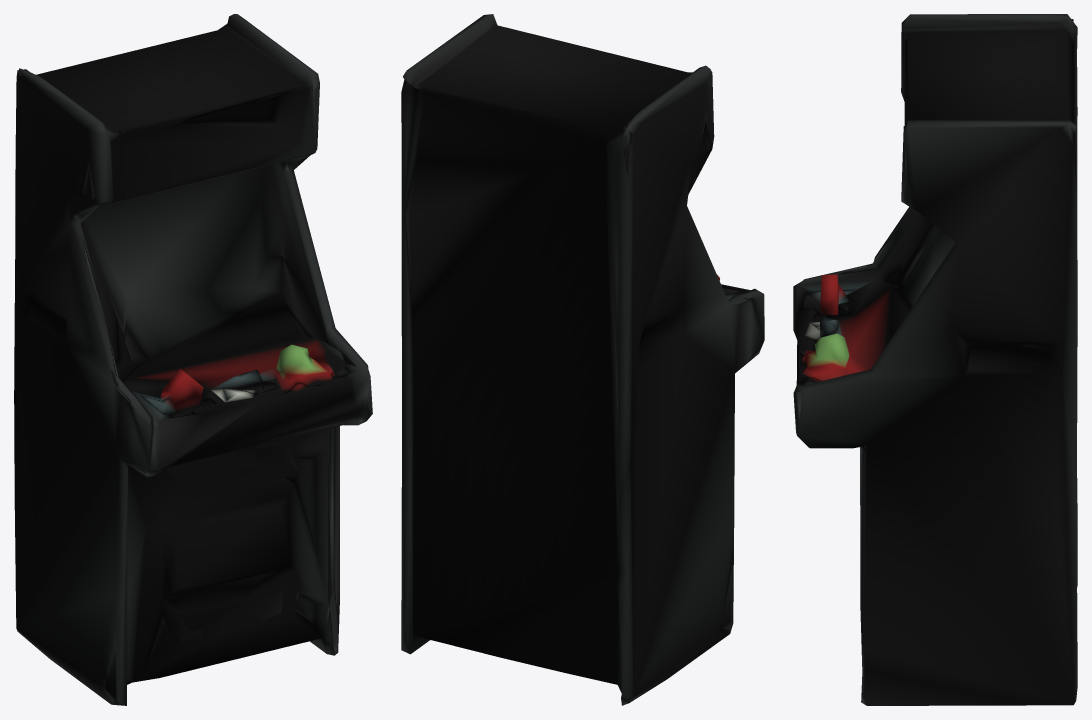
File: gen3d-arcade-cabinet-lod1.glb
The picture shows the model from 3 angles, left to right: view 1: azimuth 30°, elevation 25°; view 2: azimuth 150°, elevation 25°; view 3: azimuth 270°, elevation 25°; orthographic projection. The views are drawn at different scales.
Visible parts, largest first — view 1: part_0; view 2: part_0; view 3: part_0.
Boxes of the visible parts, box(x1,y1,x2,y2) form: part_0: box(14, 14, 372, 705); part_0: box(401, 14, 764, 705); part_0: box(793, 14, 1077, 705).
Bounding box in the file's own units: 0.4146 × 0.9999 × 0.4422.
